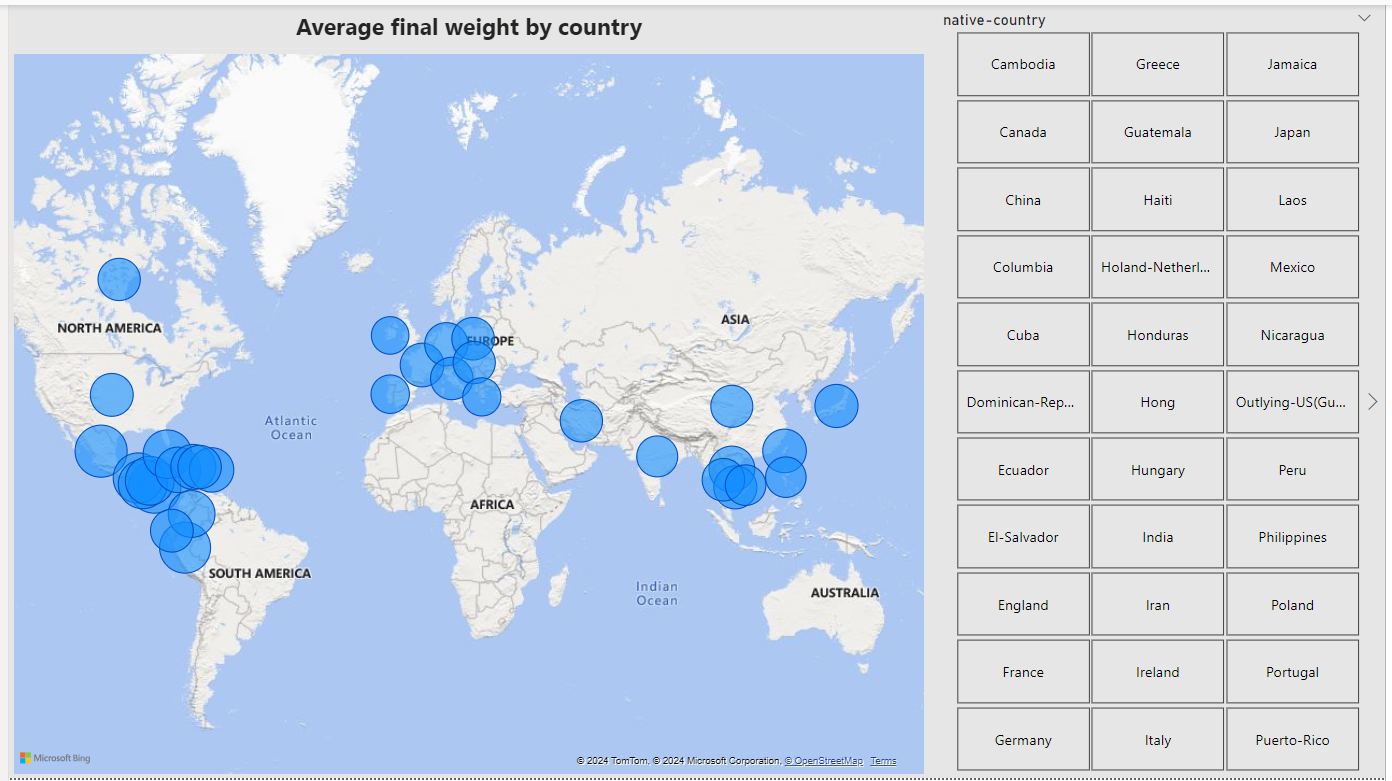

This screenshot's page, from the dashboard's own definition file:
{"tool":"powerbi","page":{"name":"countries wise finwgt","canvas":[1280,720],"ordinal":4},"visuals":[{"type":"slicer","fields":{"Values":["income_evaluation. native-country"]},"box":[856,0,423.9,719.2],"z":7000},{"type":"map","fields":{"Category":["income_evaluation. native-country"],"Size":["Avg(income_evaluation. fnlwgt)"]},"box":[0,40.7,855.8,679.1],"z":10000},{"type":"textbox","box":[0,0,855.8,40.7],"z":12000}]}

Visuals, with their boxes in screenshot pixels (x1, y1, x2, y2), scaled from the page's 1280x720 canvas onto the 1392x781 screenshot:
slicer - income_evaluation. native-country: 931, 0, 1391, 780
map - income_evaluation. native-country x Avg(income_evaluation. fnlwgt): 0, 44, 931, 780
textbox: 0, 0, 931, 44
